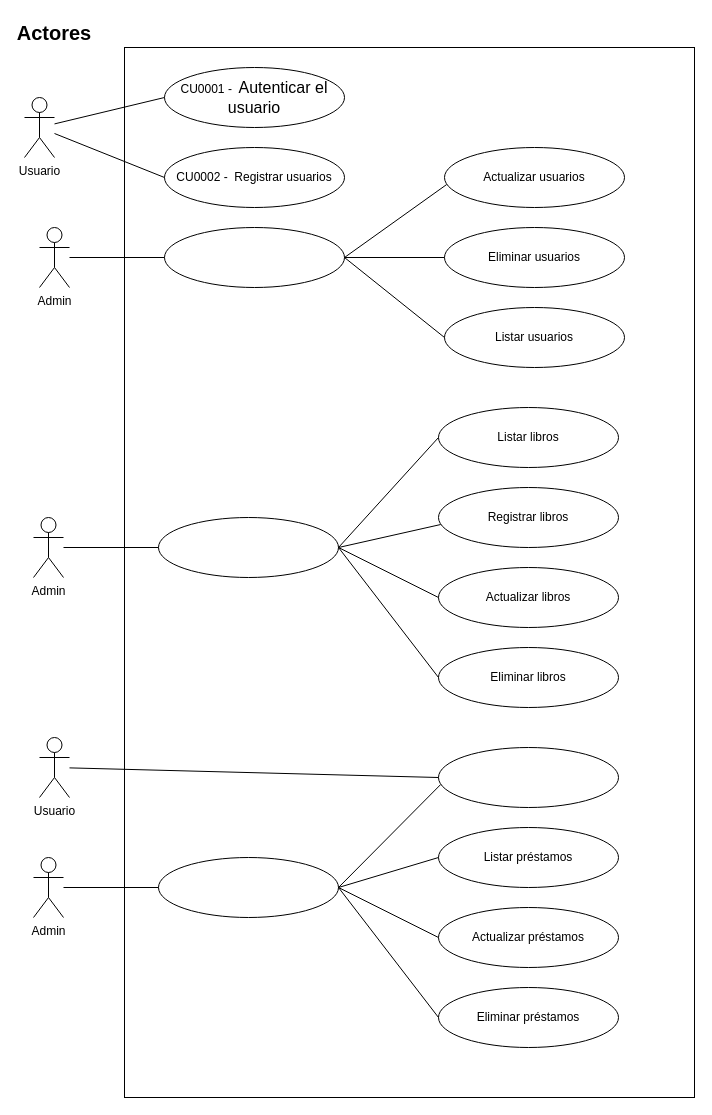
This 712x1115 diagram has some shape labels left out. The centre of each missing label's shape, as x and y in pixels:
"CU0003 - Gestionar usuarios" goes at point (254, 257).
"CU0004 - Gestionar libros" goes at point (248, 547).
"CU0005 - Gestionar préstamos" goes at point (248, 887).
"Registrar préstamos" goes at point (528, 777).
